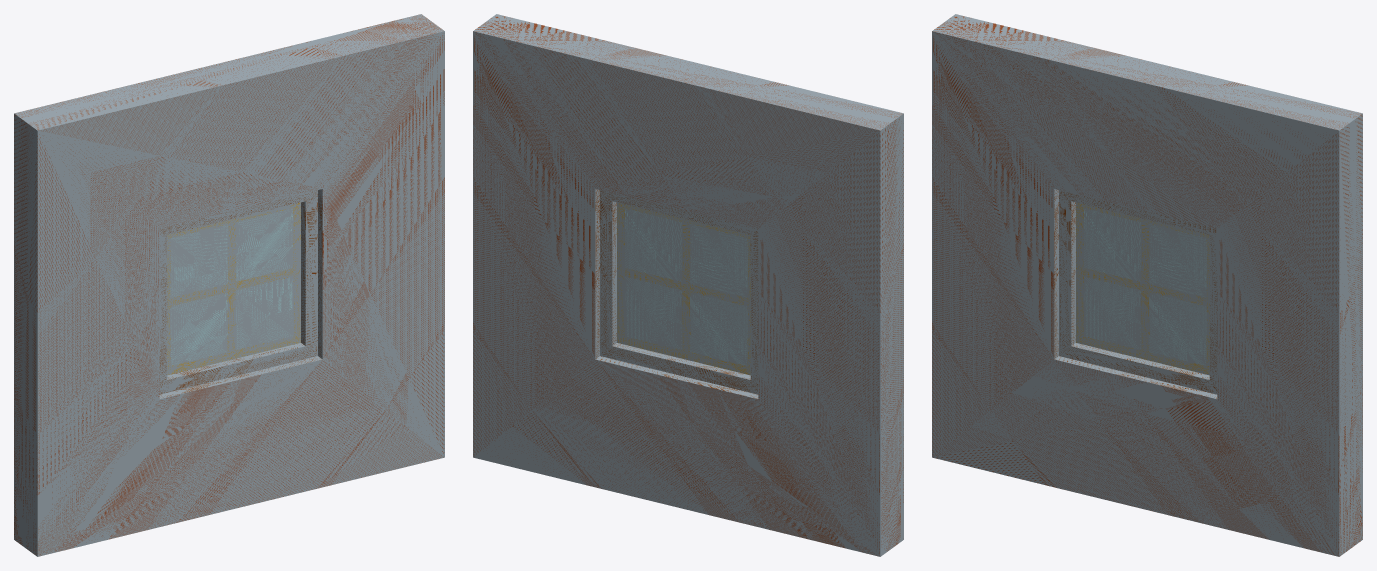
File: wall_window_1.fbx
3 views of the same model, side by side, from view 1: azimuth 30°, elevation 25°; view 2: azimuth 150°, elevation 25°; view 3: azimuth 330°, elevation 25° (orthographic).
Parts seen in each view (by area): view 1: Mesh1_window1 Model; view 2: Mesh1_window1 Model; view 3: Mesh1_window1 Model.
Boxes of the visible parts, <box> form: Mesh1_window1 Model: <box>14,14,444,556</box>; Mesh1_window1 Model: <box>473,14,903,556</box>; Mesh1_window1 Model: <box>932,14,1362,556</box>.
Size of the model in its own units: 1 by 1 by 0.1.
